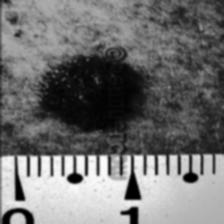Potentially Malignant Skin Tumors: (32, 56, 104, 136)
